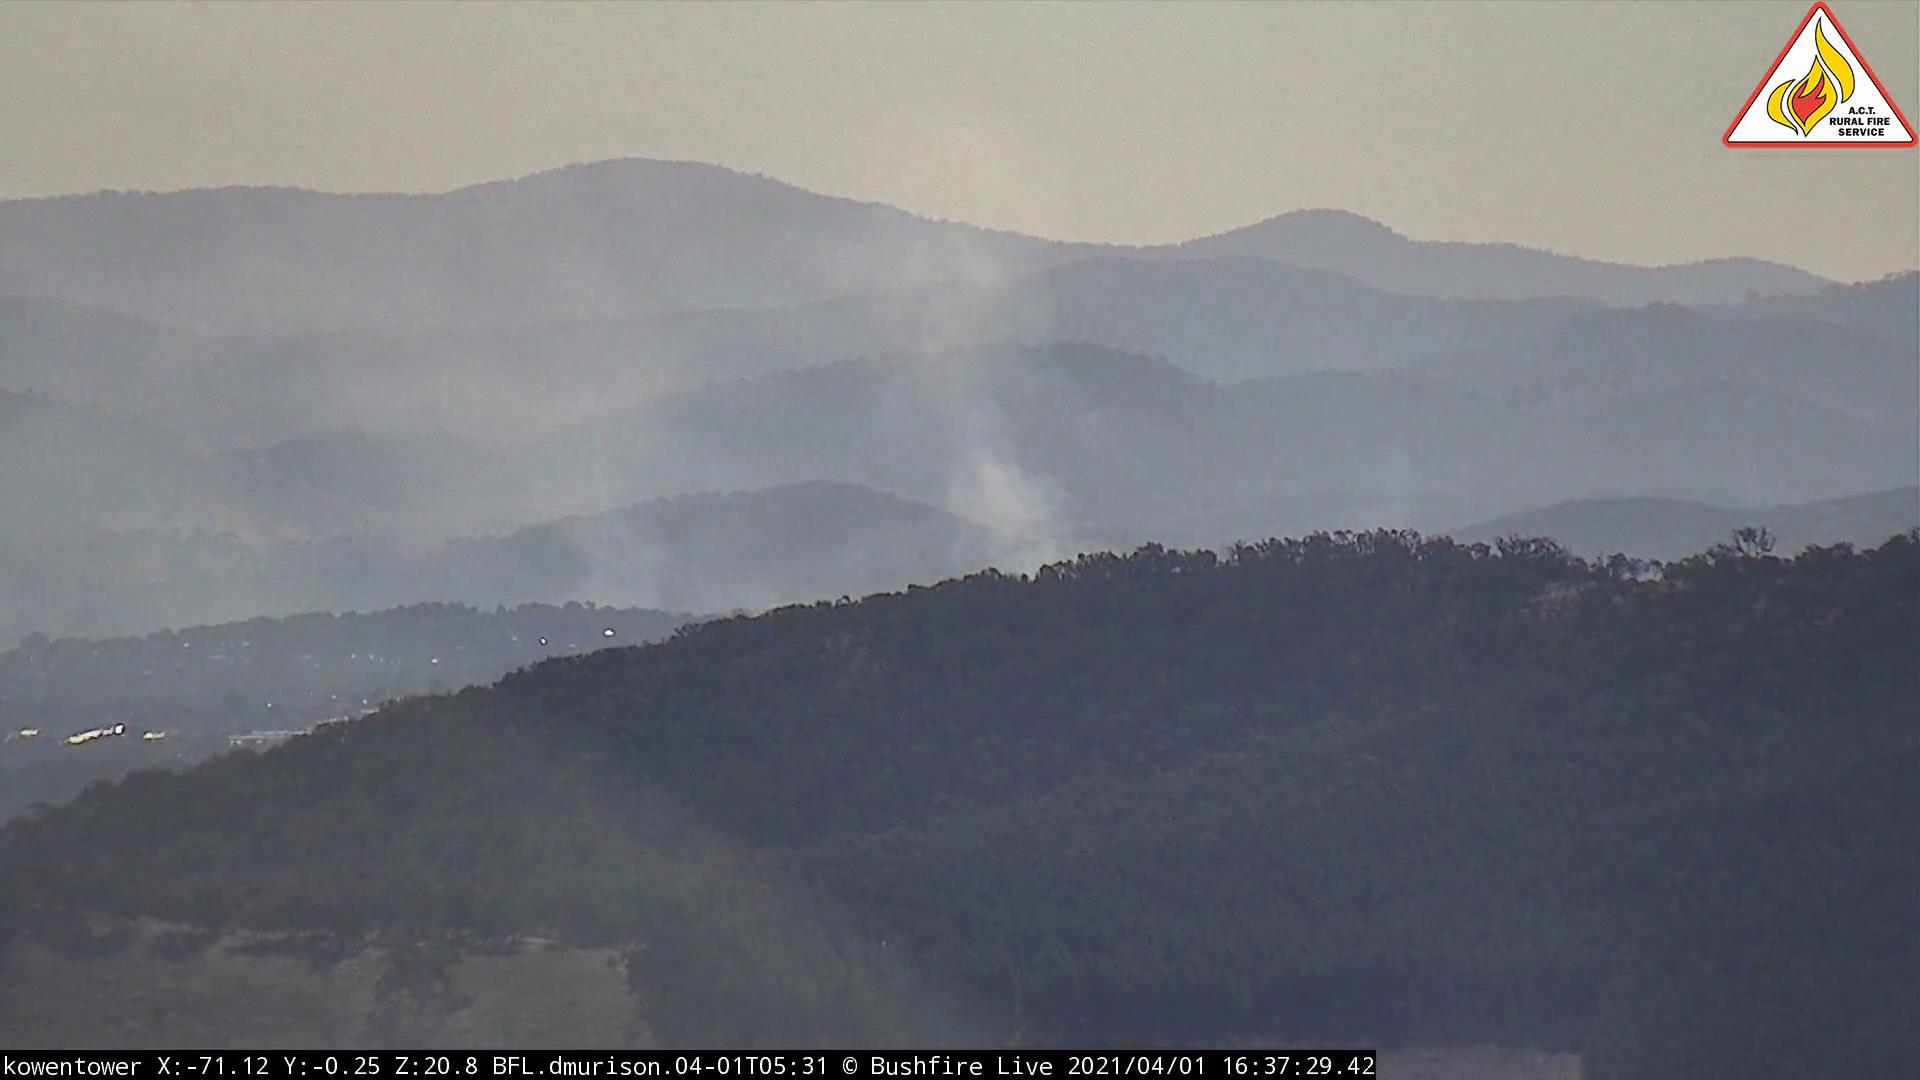Smoke: (476, 178, 1142, 622)
